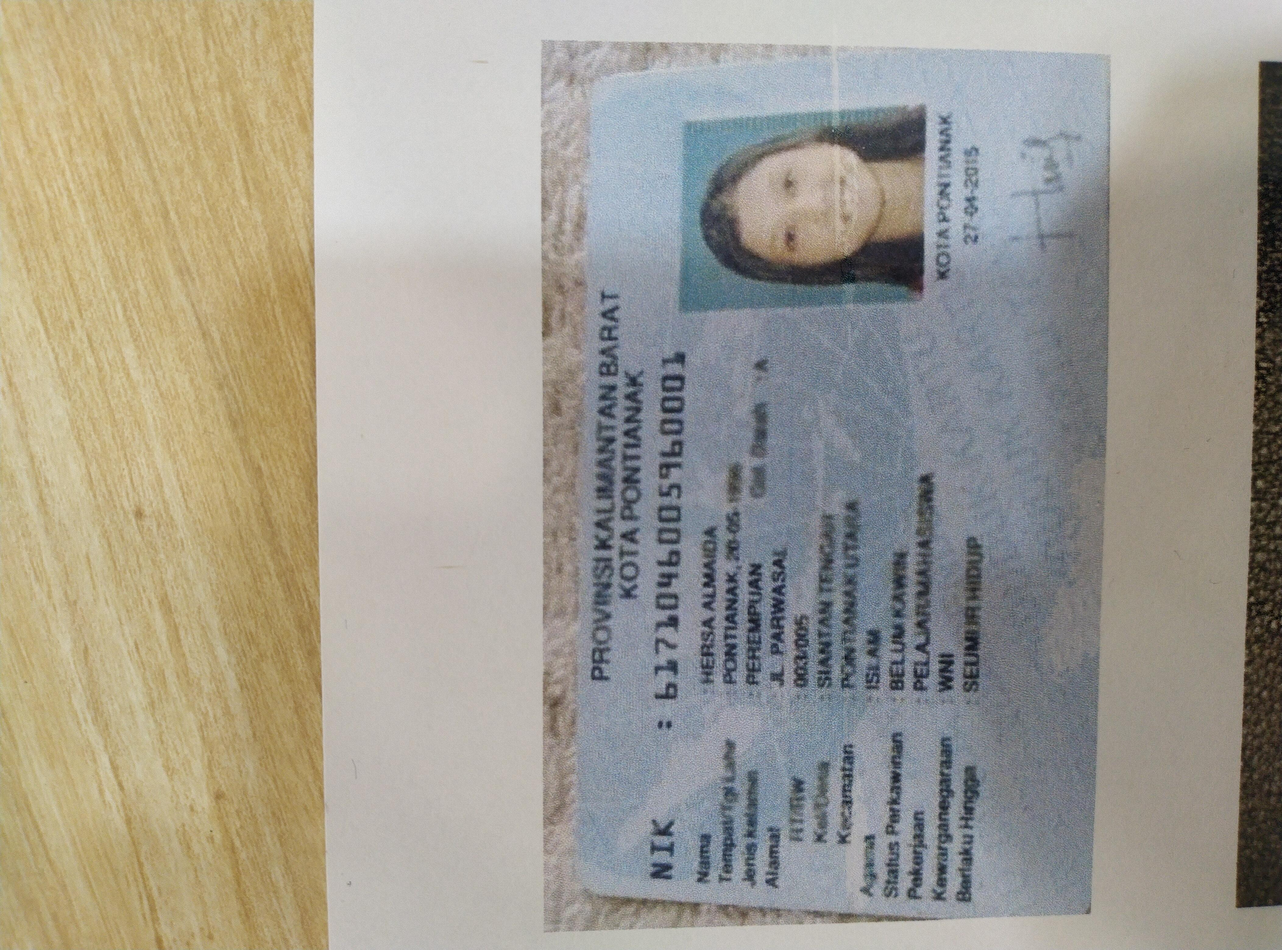ID-card: (45, 436, 1207, 812)
